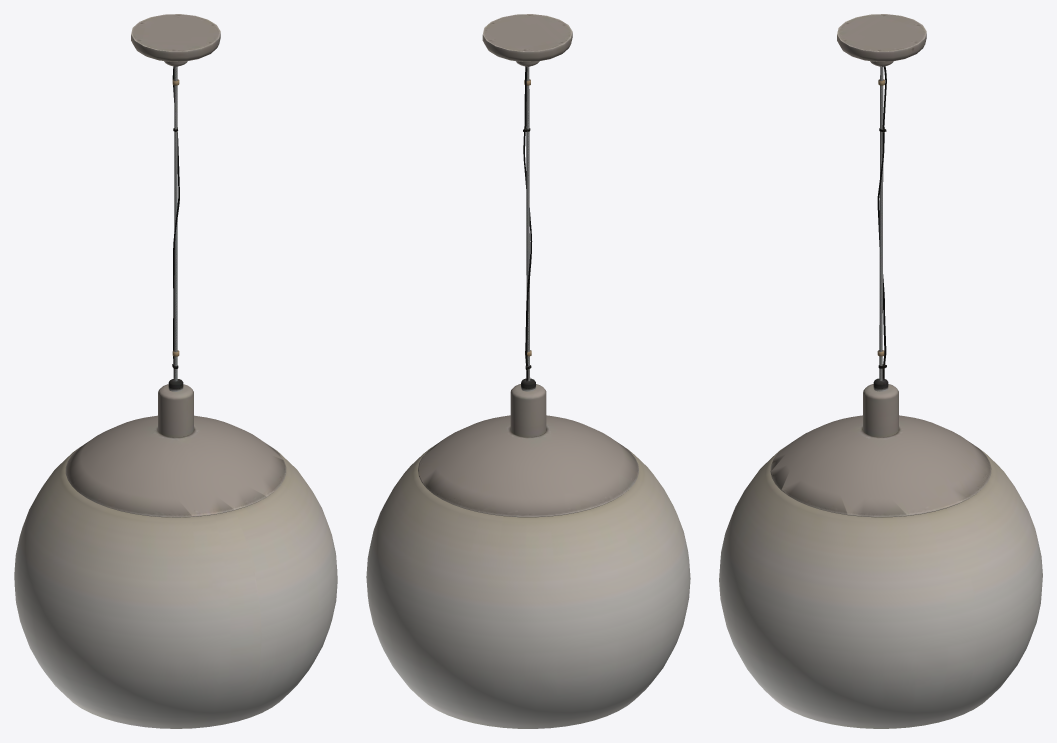
The model's file is ceiling_lamp.glb.
3 views of the same model, side by side, from view 1: azimuth 30°, elevation 25°; view 2: azimuth 150°, elevation 25°; view 3: azimuth 270°, elevation 25° (orthographic).
Visible parts, largest first — view 1: modern_ceiling_lamp_01; view 2: modern_ceiling_lamp_01; view 3: modern_ceiling_lamp_01.
Boxes of the visible parts, x1,y1,x2,y2 form: modern_ceiling_lamp_01: (14, 14, 337, 728); modern_ceiling_lamp_01: (366, 14, 690, 728); modern_ceiling_lamp_01: (719, 14, 1042, 728).
Size of the model in its own units: 0.4317 by 0.9516 by 0.4317.
3 materials, 3 textured.
